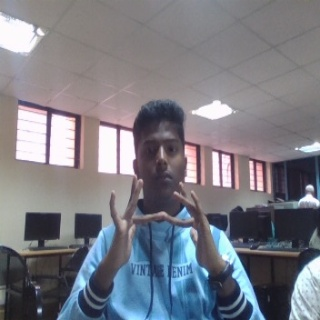Internet: (104, 170, 218, 272)
